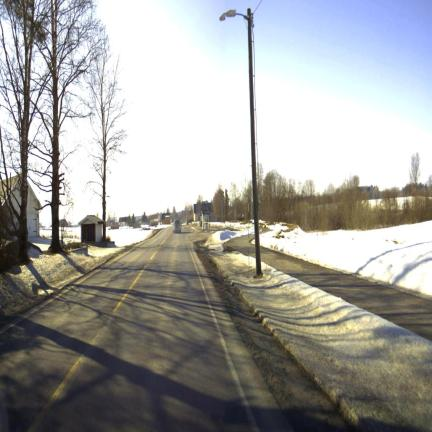Road: (0, 229, 289, 430)
